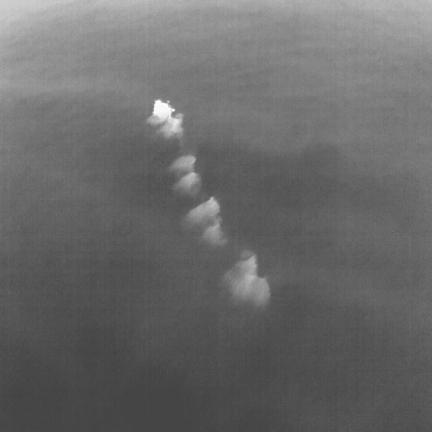flukeprints: (221, 250, 270, 308), (185, 197, 219, 225), (202, 217, 227, 246), (157, 114, 183, 139), (173, 172, 200, 194), (169, 154, 195, 176), (151, 100, 174, 122), (189, 208, 205, 224), (202, 219, 219, 231), (202, 231, 215, 244)
